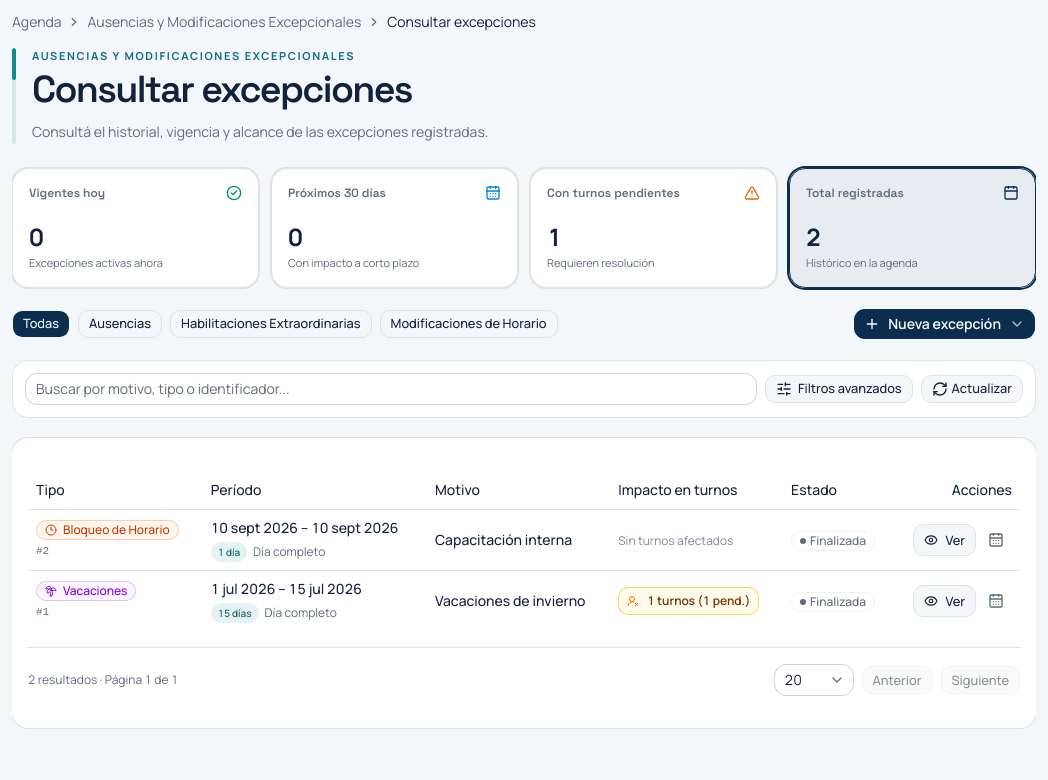
Scenario: AbsenceManagementPage › permite filtrar interactivamente desde las tarjetas KPI y limpiar filtros
Expected: the text "Capacitación interna" is shown, [435, 530, 572, 549]
# Click KPI "Con turnos pendientes"
Click the text "Con turnos pendientes" at (613, 193), box [547, 185, 680, 201]
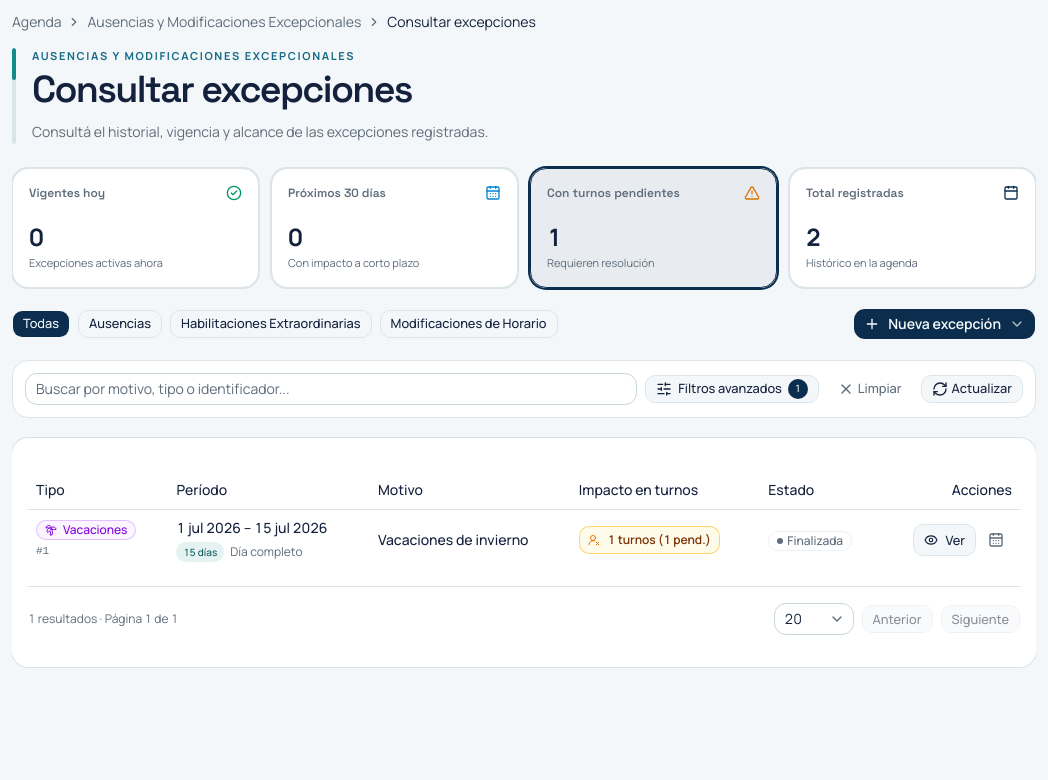
Expected: the text "Vacaciones de invierno" is shown, [378, 530, 528, 549]
Expected: the text "Capacitación interna" is not shown
# Click en botón Limpiar
Click the button "Limpiar" at (870, 389), box [827, 375, 912, 403]
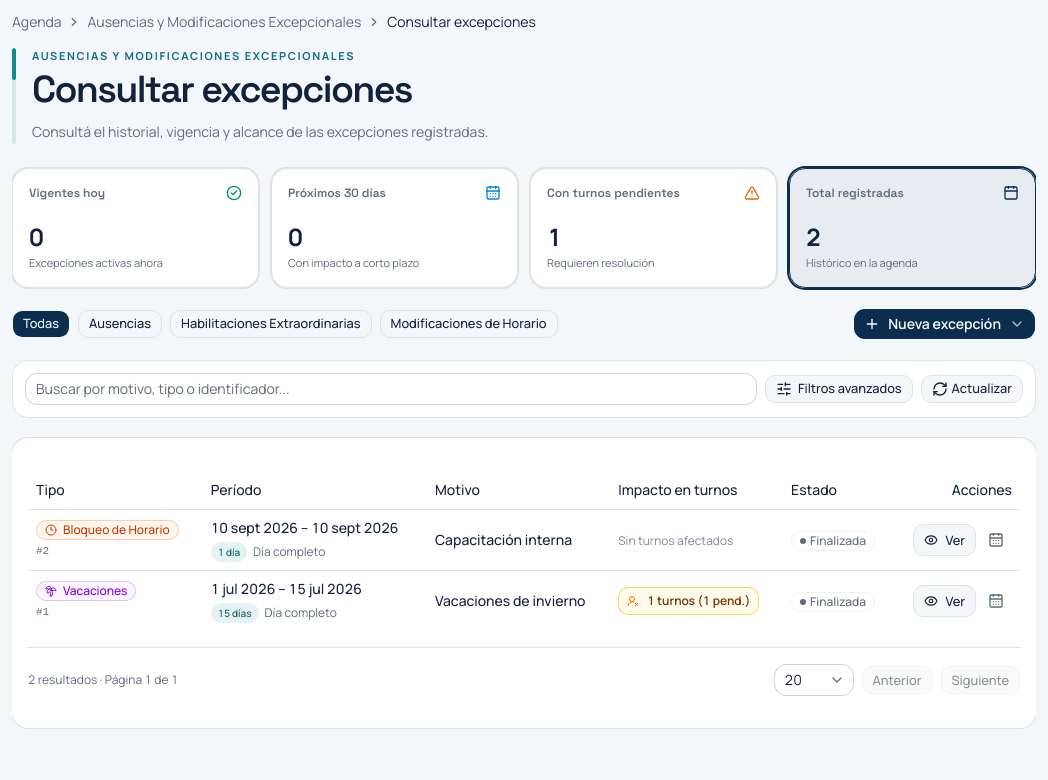
Expected: the text "Vacaciones de invierno" is shown, [435, 591, 602, 611]
Expected: the text "Capacitación interna" is shown, [435, 530, 572, 549]
